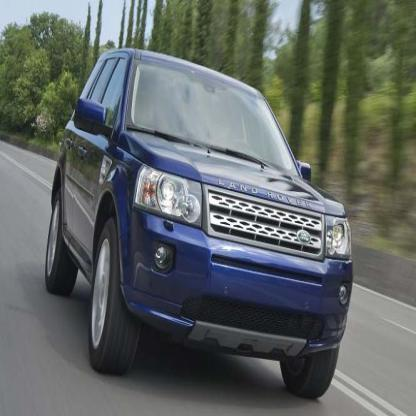car: (45, 50, 354, 400)
